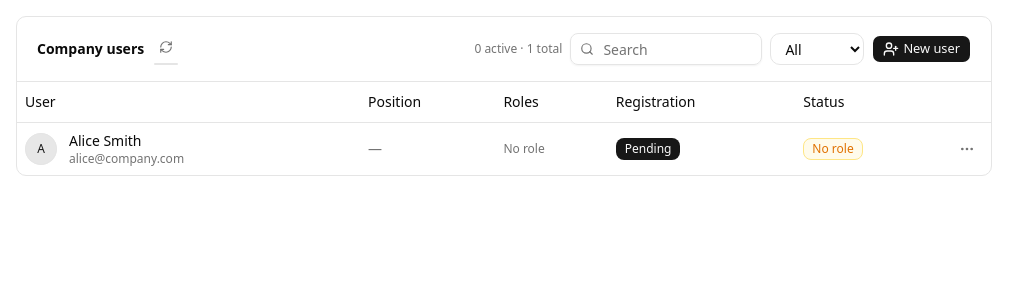
Test: CompanyUsersTable — pending-credentials row actions › hides Edit, Disable/Enable and optional-reviewer toggle for a user still completing registration
Expected: the text "Alice Smith" is shown, left=69, top=130, right=142, bottom=150
Click the button named "Actions for Alice Smith" at (967, 148), box left=951, top=132, right=983, bottom=164
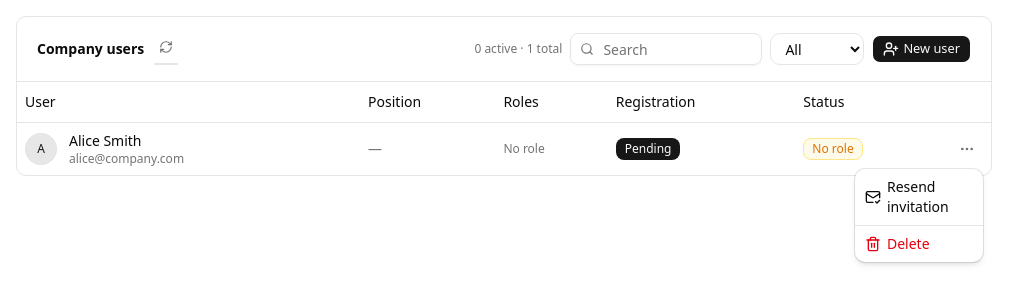
Now the menu item "Resend invitation" is shown, box left=865, top=177, right=949, bottom=216
Now the menu item "Delete" is shown, box left=865, top=234, right=930, bottom=253
